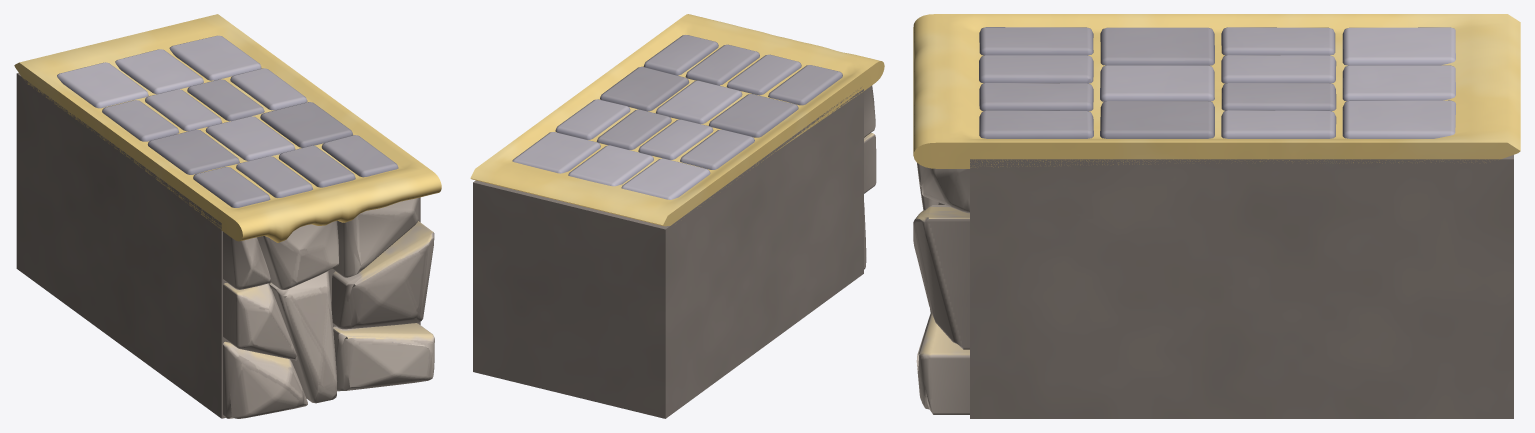
File: CC_T05_ReefStoneTop.fbx
3 renders of one model, left to right at view 1: azimuth 30°, elevation 25°; view 2: azimuth 150°, elevation 25°; view 3: azimuth 270°, elevation 25°, orthographic. The views are drawn at different scales.
Visible parts, largest first — view 1: Rock, Paving, SandCap; view 2: Rock, Paving, SandCap; view 3: Rock, Paving, SandCap.
Boxes of the visible parts, box(x1,y1,x2,y2) form: Rock: box(16, 73, 434, 418); Paving: box(57, 35, 398, 207); SandCap: box(14, 14, 441, 242); Rock: box(473, 85, 876, 418); Paving: box(512, 35, 842, 199); SandCap: box(470, 14, 884, 226); Rock: box(913, 155, 1513, 418); Paving: box(979, 27, 1455, 138); SandCap: box(913, 14, 1520, 168).
Bounding box in the file's own units: 2 × 2 × 3.99.
